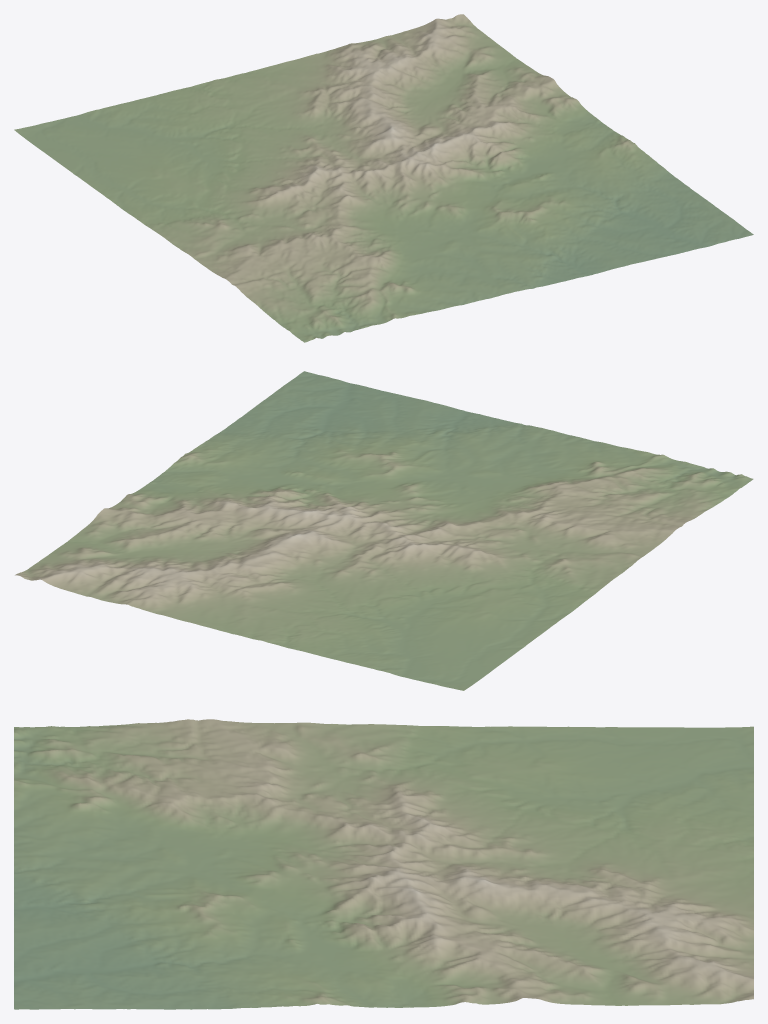
The model's file is guadarrama.glb.
3 renders of one model, top to bottom at view 1: azimuth 30°, elevation 25°; view 2: azimuth 150°, elevation 25°; view 3: azimuth 270°, elevation 25°, orthographic. The views are drawn at different scales.
Parts seen in each view (by area): view 1: IGN_Terrain; view 2: IGN_Terrain; view 3: IGN_Terrain.
Part boxes in pixels (left/top/right/bottom): IGN_Terrain: left=14, top=14, right=753, bottom=342; IGN_Terrain: left=15, top=371, right=753, bottom=690; IGN_Terrain: left=14, top=719, right=753, bottom=1009.
Bounding box in the file's own units: 54795 × 1818 × 61226.
